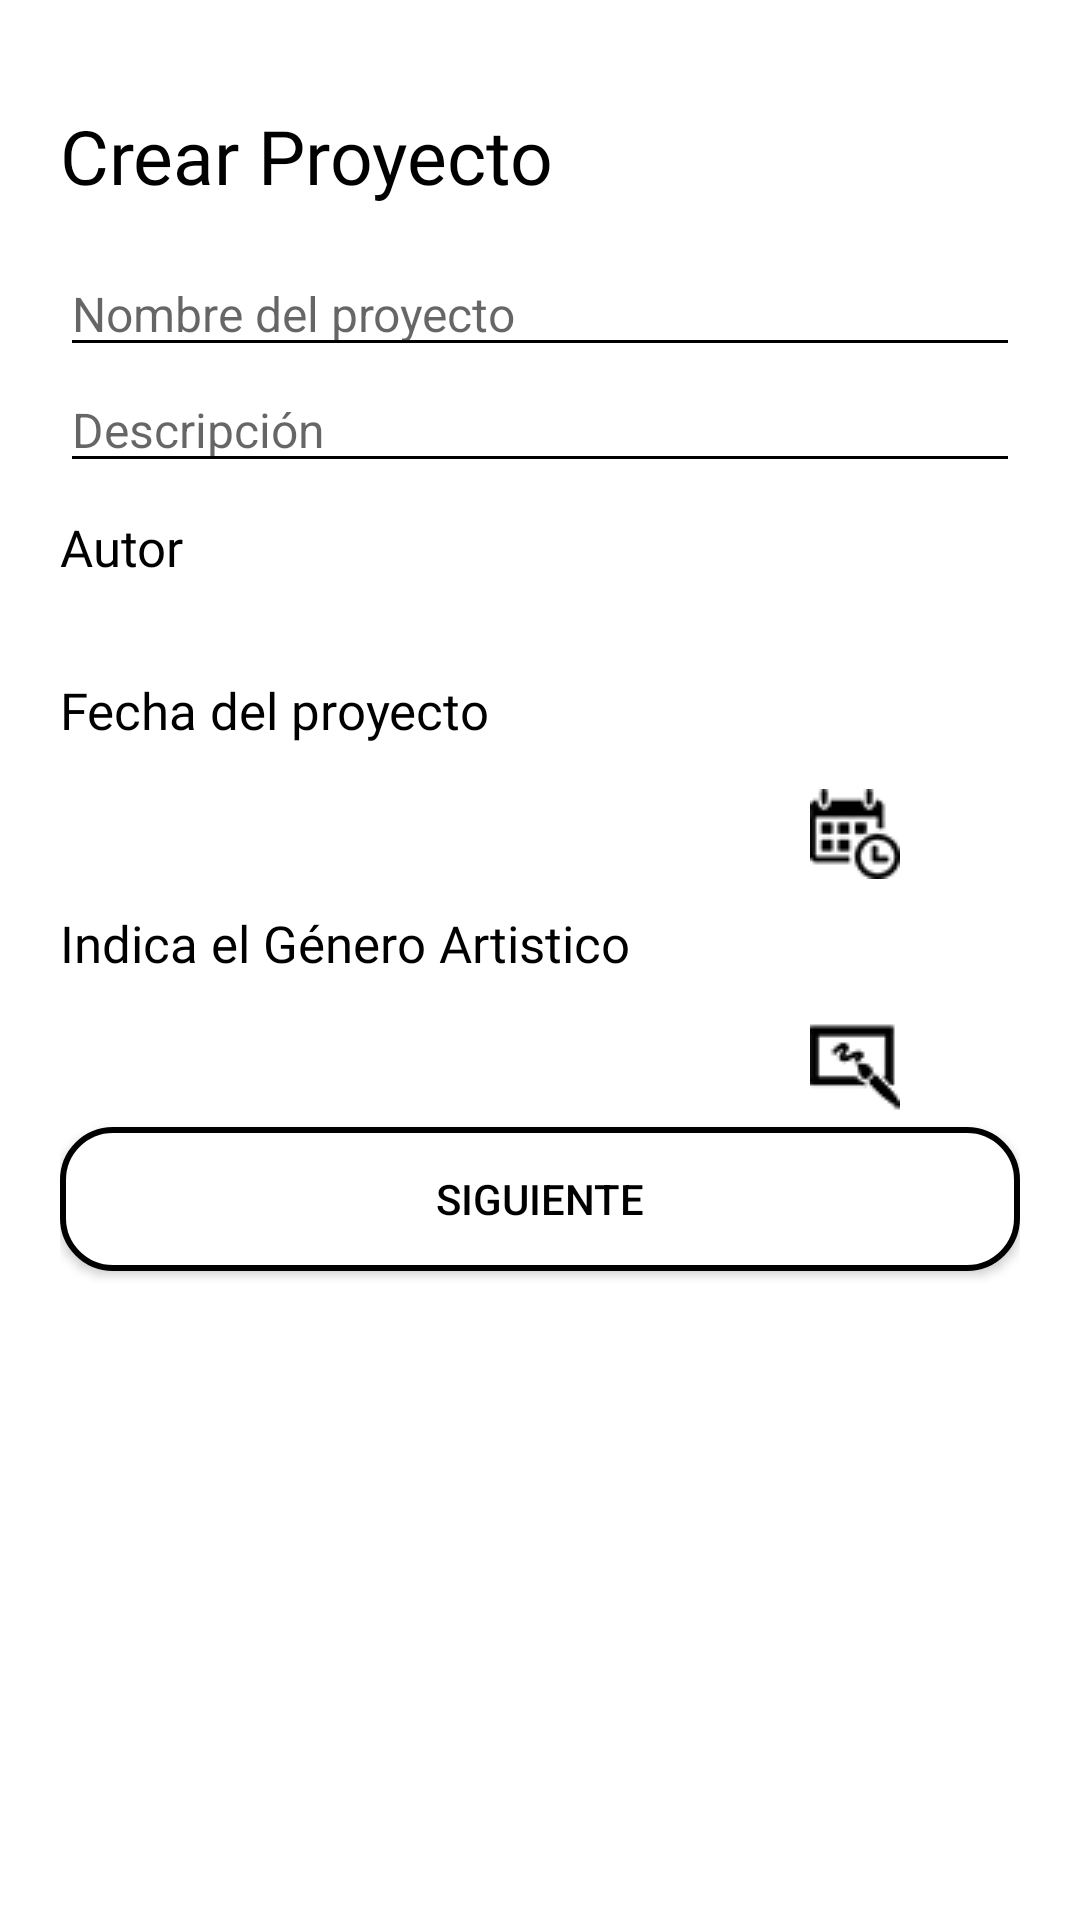

Where to tap for icons on this 1080×1920 app screen, as (x,y):
calendar: (855,834)
